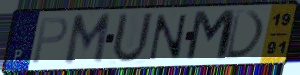D: (223, 9, 267, 62)
M: (183, 8, 239, 64), (62, 11, 114, 68)
N: (147, 13, 189, 63)
P: (29, 15, 70, 66)
U: (109, 11, 155, 66)
